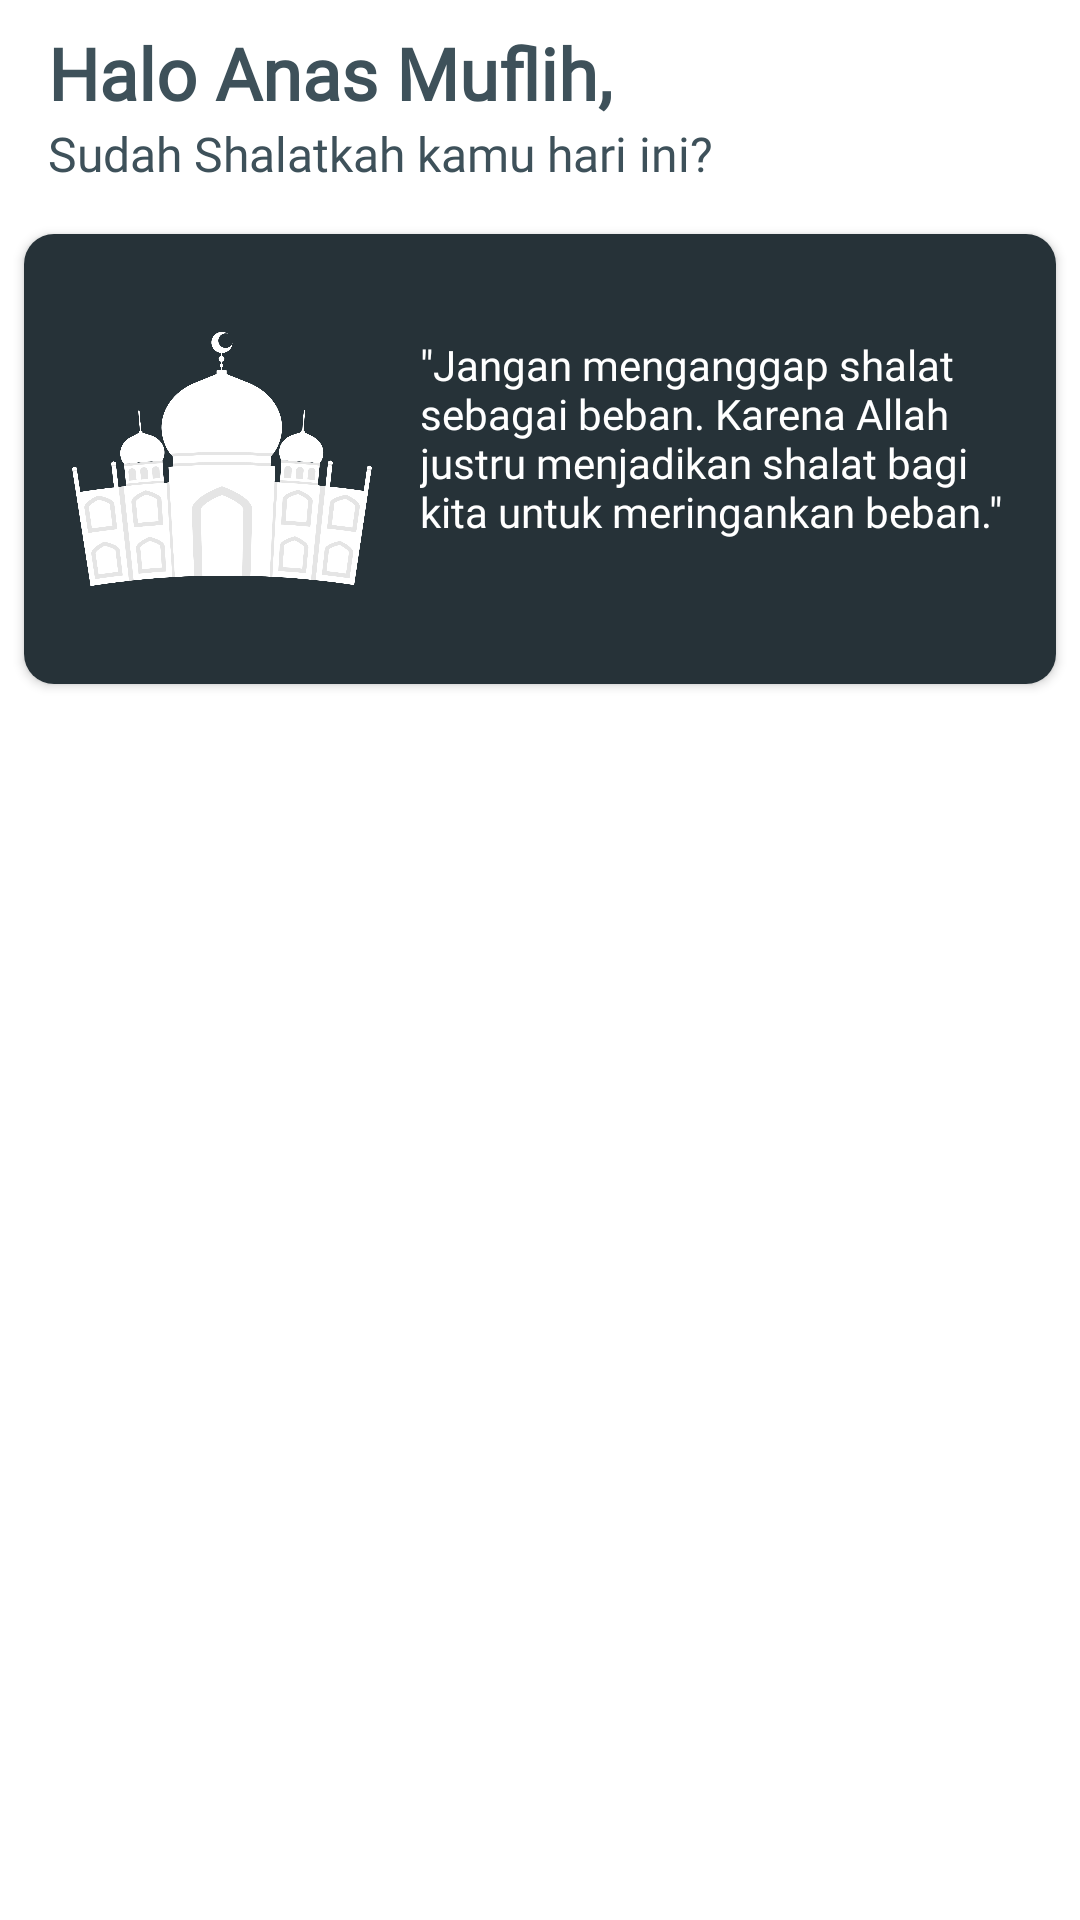

Icons on this 1080 x 1920 Android screen, each with its box as detection(x1, y1, x2, y2):
mosque: detection(72, 332, 372, 586)
